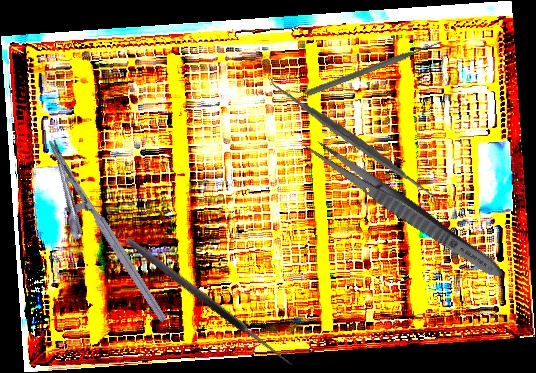Dressing Forceps: (299, 132, 509, 285)
Hook Surgical: (124, 228, 302, 369)
Needle Holder: (22, 137, 169, 339)
Pusher: (306, 37, 445, 98)
Spatula Surgical: (270, 59, 438, 223)
